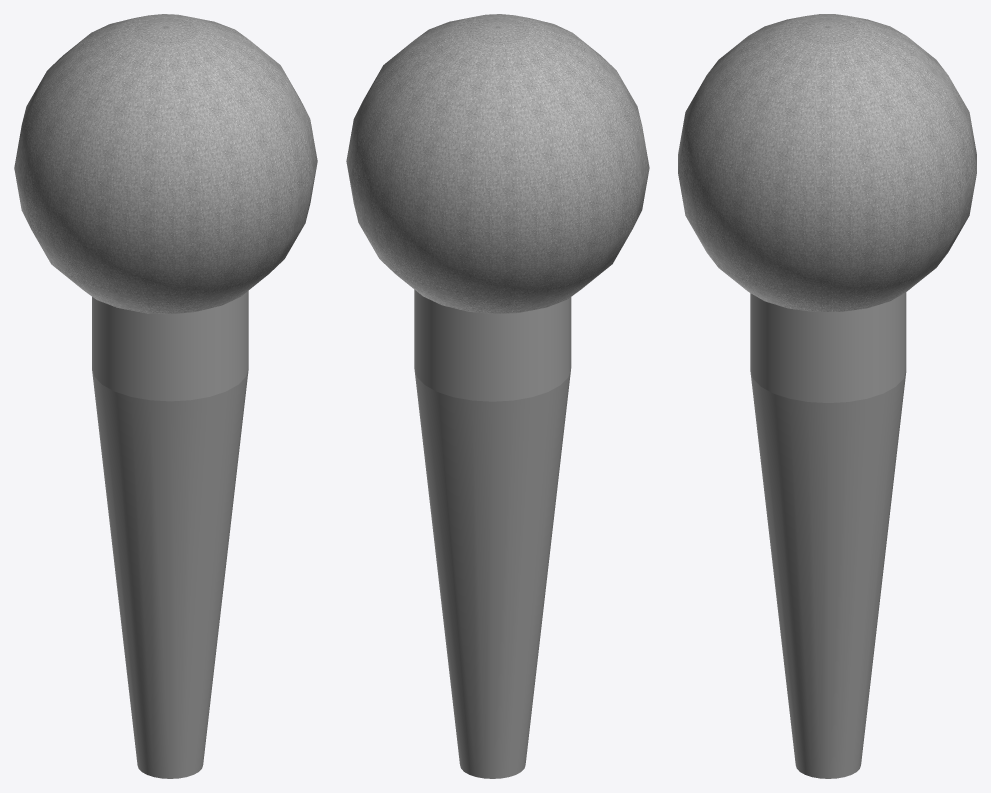
The model's file is microphone_mike_17.glb.
3 views of the same model, side by side, from view 1: azimuth 30°, elevation 25°; view 2: azimuth 150°, elevation 25°; view 3: azimuth 270°, elevation 25° (orthographic).
Parts seen in each view (by area): view 1: mesh1_mesh1-geometry, mesh2_mesh2-geometry_1; view 2: mesh1_mesh1-geometry, mesh2_mesh2-geometry_1; view 3: mesh1_mesh1-geometry, mesh2_mesh2-geometry_1.
Boxes of the visible parts, <box> form: mesh1_mesh1-geometry: <box>14,14,317,314</box>; mesh2_mesh2-geometry_1: <box>92,291,248,778</box>; mesh1_mesh1-geometry: <box>346,14,649,313</box>; mesh2_mesh2-geometry_1: <box>414,289,571,778</box>; mesh1_mesh1-geometry: <box>678,14,976,311</box>; mesh2_mesh2-geometry_1: <box>750,292,906,778</box>.
Bounding box in the file's own units: 0.3263 × 0.8871 × 0.3263.
3 materials, 1 textured.
